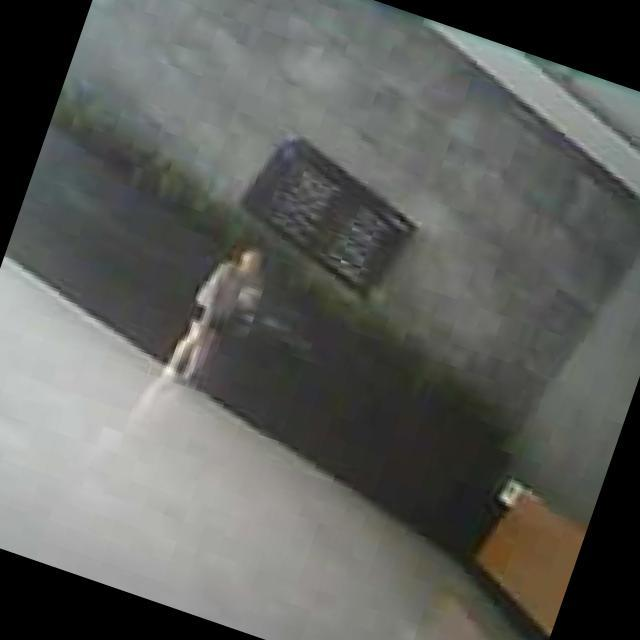person: (162, 232, 274, 397)
